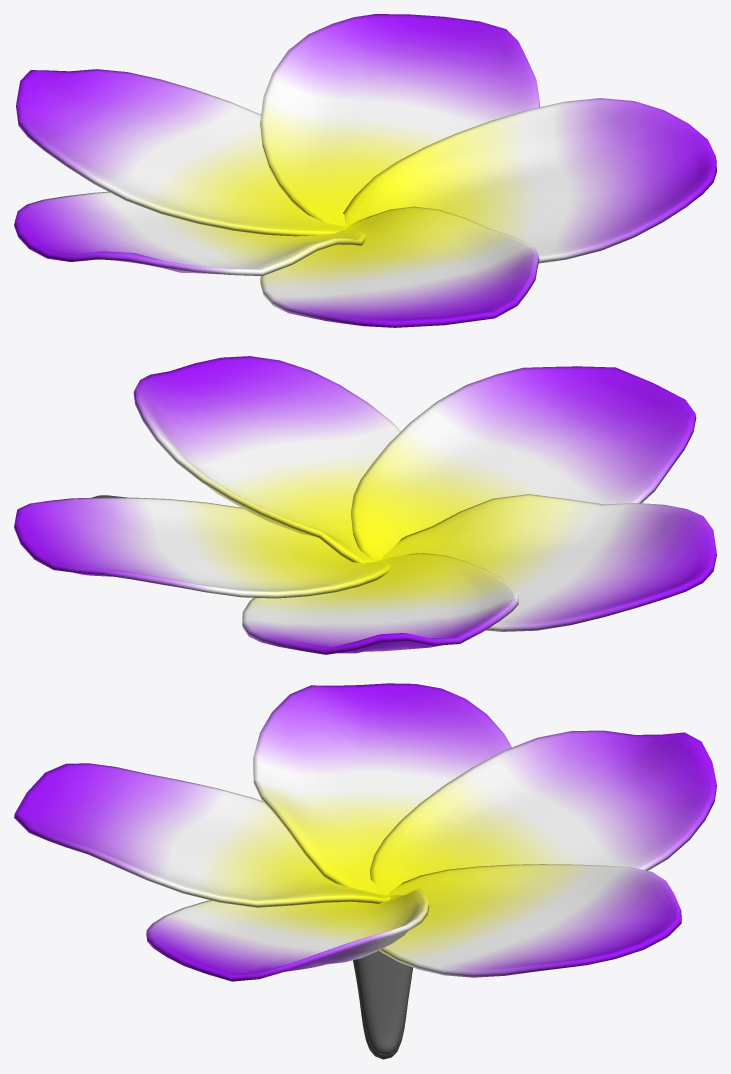
The model's file is item_hair_clip.glb.
3 views of the same model, one above another, from view 1: azimuth 30°, elevation 25°; view 2: azimuth 150°, elevation 25°; view 3: azimuth 270°, elevation 25° (orthographic). The views are drawn at different scales.
Visible parts, largest first — view 1: Circle; view 2: Circle; view 3: Circle.
Part boxes in pixels (x1,y1,x2,y2): Circle: (14,14,716,327); Circle: (14,356,716,654); Circle: (14,683,716,1059).
Size of the model in its own units: 6.6 by 1.31 by 6.64.
Materials: 2 (1 with a texture image).
